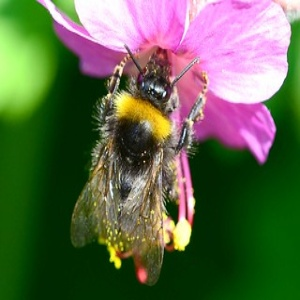bee: (72, 48, 198, 286)
